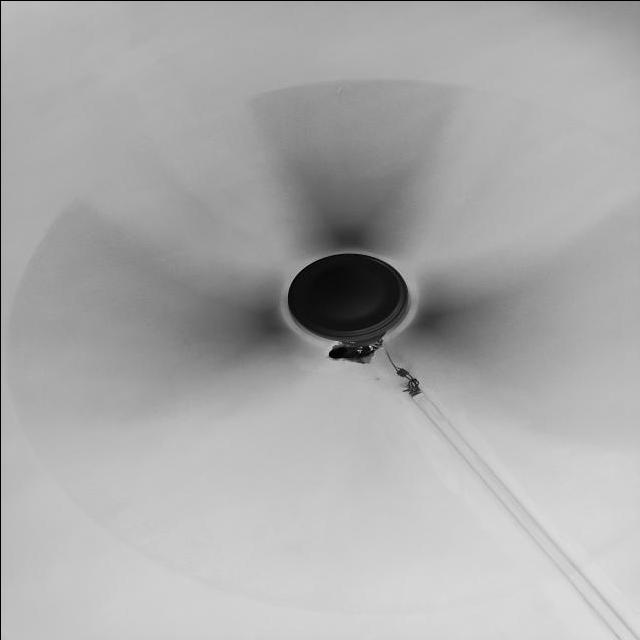fan: (11, 84, 640, 621)
light: (281, 252, 410, 364)
